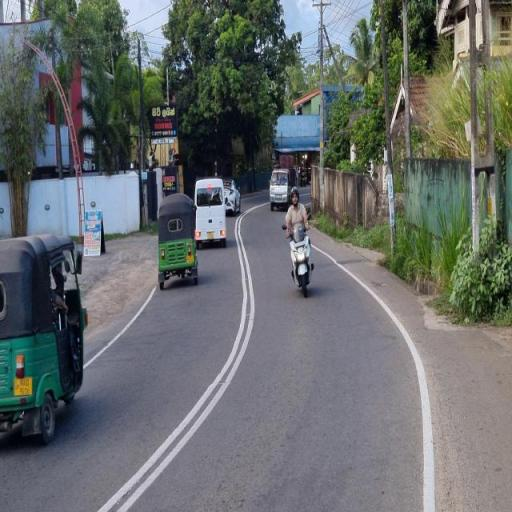double_white_line: (94, 205, 256, 512)
